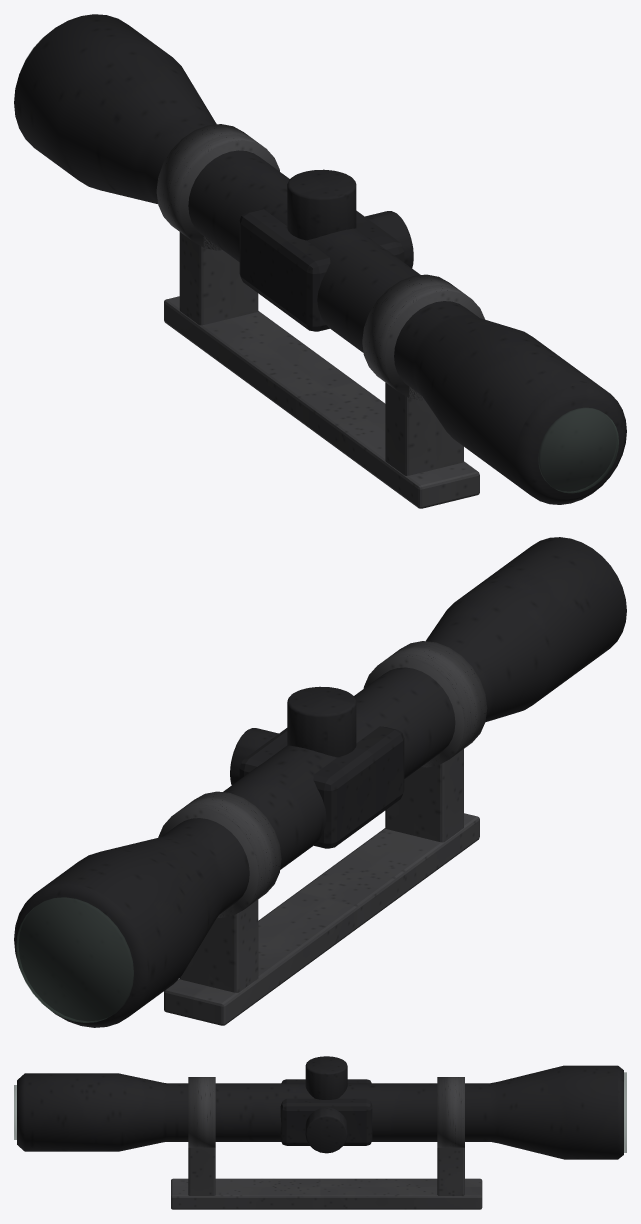
The model's file is scope_6x.glb.
The picture shows the model from 3 angles, top to bottom: view 1: azimuth 30°, elevation 25°; view 2: azimuth 150°, elevation 25°; view 3: azimuth 270°, elevation 25°; orthographic projection. The views are drawn at different scales.
Visible parts, largest first — view 1: tube, base, saddle, lens_r, ring1, ring0, riser1, riser0, turret_t, turret_s; view 2: tube, base, lens_f, saddle, ring0, ring1, riser0, riser1, turret_t, turret_s; view 3: tube, base, saddle, ring0, ring1, turret_t, turret_s, riser0, riser1, lens_f.
Boxes of the visible parts, <box> form: tube: <box>14,14,626,504</box>; base: <box>164,296,479,508</box>; saddle: <box>239,209,404,331</box>; lens_r: <box>538,408,618,493</box>; ring1: <box>156,124,279,250</box>; ring0: <box>362,274,484,400</box>; riser1: <box>179,232,258,325</box>; riser0: <box>385,382,463,475</box>; turret_t: <box>287,169,356,240</box>; turret_s: <box>365,211,413,267</box>; tube: <box>14,537,626,1027</box>; base: <box>164,813,479,1025</box>; lens_f: <box>16,897,133,1022</box>; saddle: <box>239,726,404,848</box>; ring0: <box>363,641,487,767</box>; ring1: <box>158,791,281,917</box>; riser0: <box>385,749,463,842</box>; riser1: <box>179,899,258,992</box>; turret_t: <box>287,686,356,757</box>; turret_s: <box>230,728,278,784</box>; tube: <box>17,1065,623,1159</box>; base: <box>171,1178,482,1209</box>; saddle: <box>280,1079,372,1145</box>; ring0: <box>188,1077,215,1147</box>; ring1: <box>437,1077,464,1147</box>; turret_t: <box>305,1056,347,1099</box>; turret_s: <box>305,1107,347,1153</box>; riser0: <box>188,1147,215,1195</box>; riser1: <box>437,1147,464,1195</box>; lens_f: <box>624,1072,626,1152</box>.
Size of the model in its own units: 0.051 by 0.077 by 0.313.
Materials: 3 (2 with a texture image).
